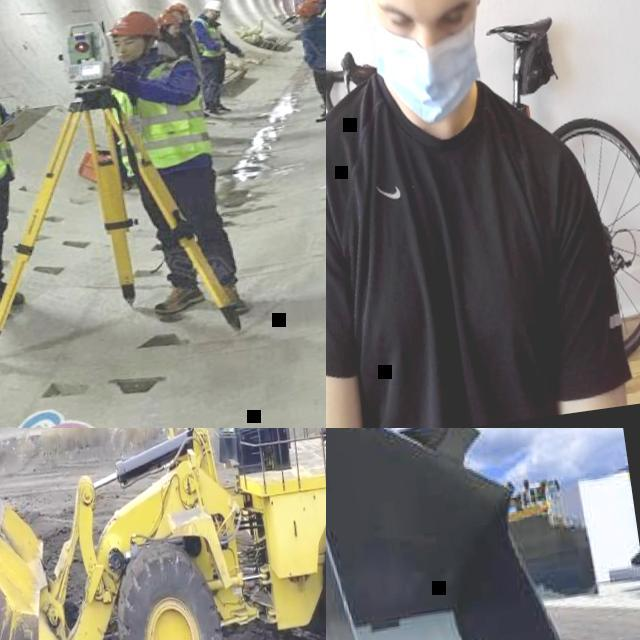helmet: (108, 6, 163, 44), (153, 10, 184, 28), (295, 0, 320, 17), (199, 0, 223, 14), (170, 1, 190, 12)
vest: (102, 50, 217, 181), (195, 14, 228, 57), (319, 4, 326, 21)
